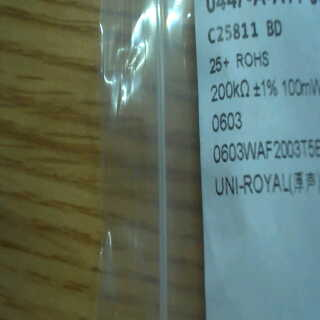200kR: (202, 74, 252, 106)
